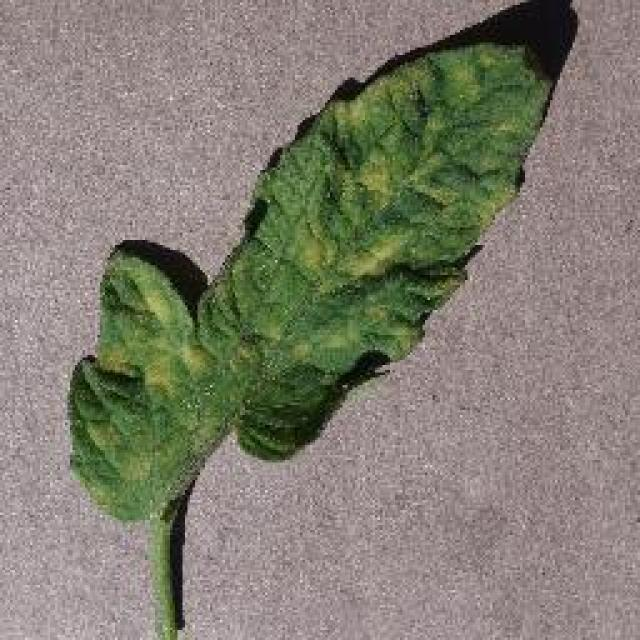Tomato mold leaf: (69, 42, 556, 518)
